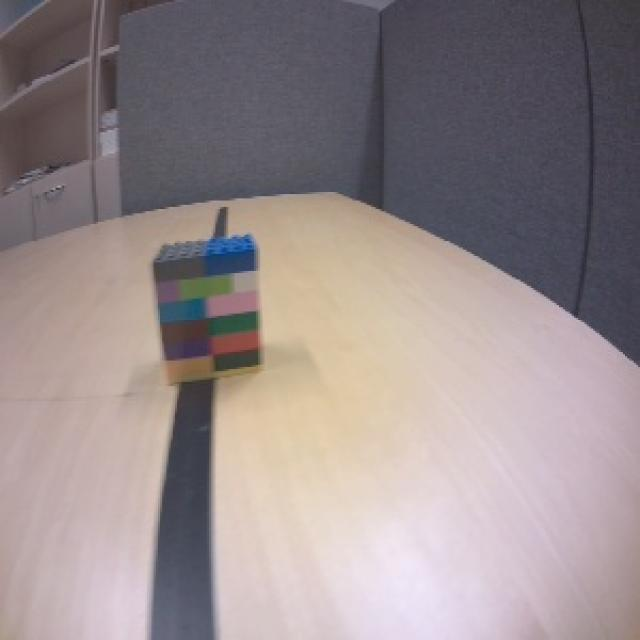obstacle: (150, 229, 268, 387)
